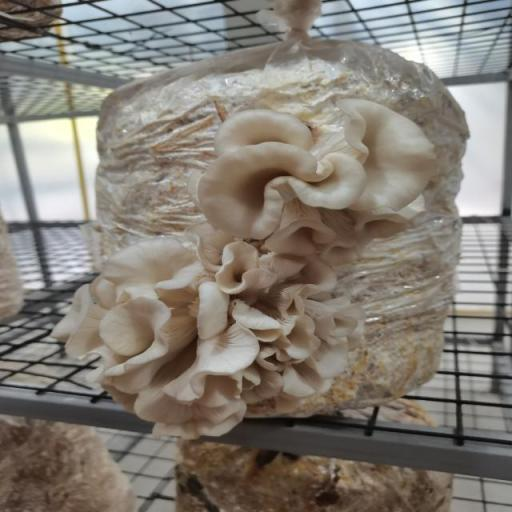White Oyster Mushroom: (58, 237, 356, 423), (183, 89, 452, 294)
